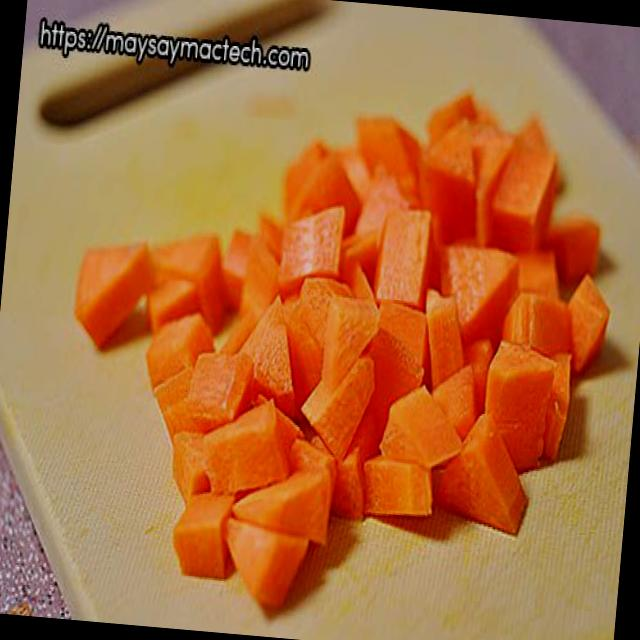ca rot: (74, 93, 606, 608)
